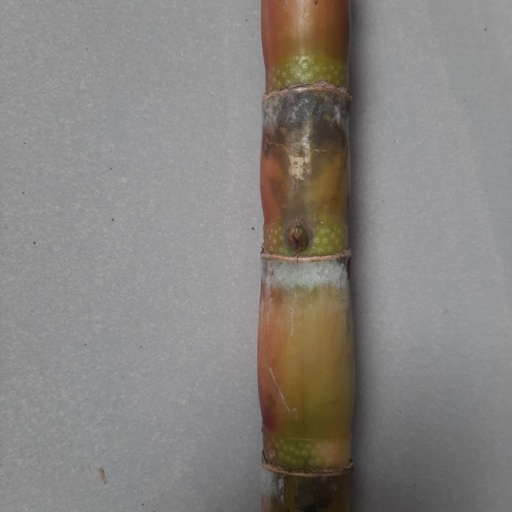Bud: (285, 225, 310, 255)
